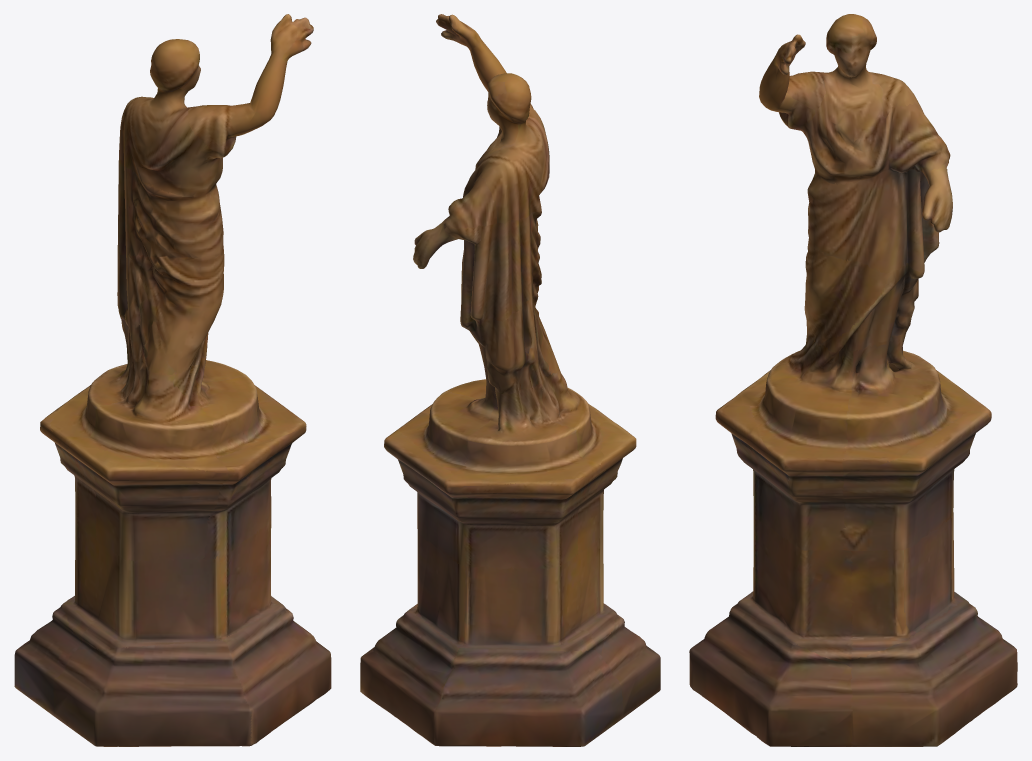
File: hero_statue.glb
3 renders of one model, left to right at view 1: azimuth 30°, elevation 25°; view 2: azimuth 150°, elevation 25°; view 3: azimuth 270°, elevation 25°, orthographic. The views are drawn at different scales.
Visible parts, largest first — view 1: tripo_node_54eccf60-6235-4a99-929d-ec66ba731c57; view 2: tripo_node_54eccf60-6235-4a99-929d-ec66ba731c57; view 3: tripo_node_54eccf60-6235-4a99-929d-ec66ba731c57.
Part boxes in pixels (x1,y1,x2,y2): tripo_node_54eccf60-6235-4a99-929d-ec66ba731c57: (14, 14, 331, 746); tripo_node_54eccf60-6235-4a99-929d-ec66ba731c57: (360, 14, 660, 746); tripo_node_54eccf60-6235-4a99-929d-ec66ba731c57: (689, 14, 1017, 746).
Bounding box in the file's own units: 0.3517 × 0.9509 × 0.4051.
Materials: 1 (1 with a texture image).
